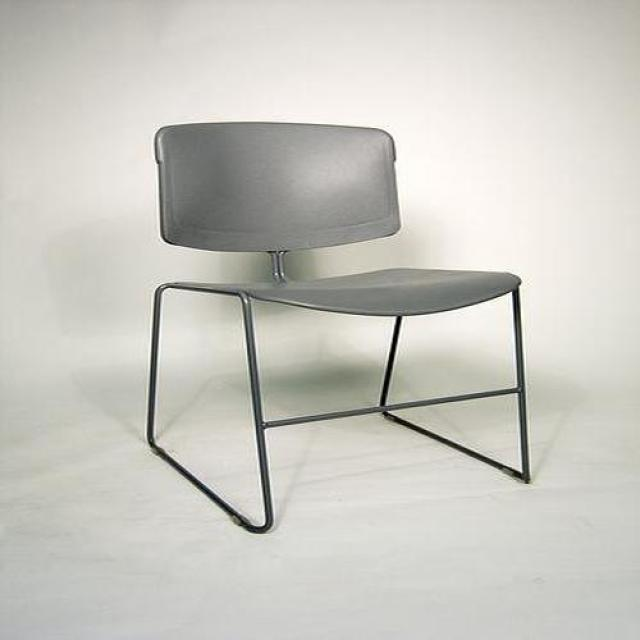chair: (146, 124, 527, 535)
